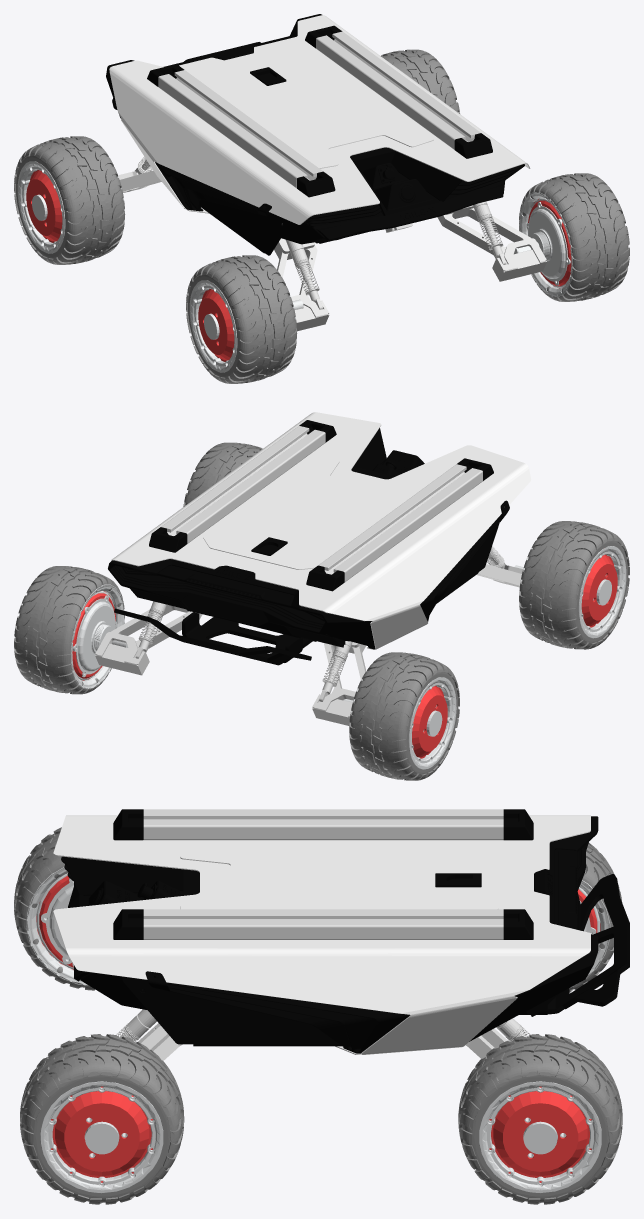
Rendered from robotmockup.fbx.
The picture shows the model from 3 angles, top to bottom: view 1: azimuth 30°, elevation 25°; view 2: azimuth 150°, elevation 25°; view 3: azimuth 270°, elevation 25°; orthographic projection. The views are drawn at different scales.
Parts seen in each view (by area): view 1: node53, front-left-wheel.001, back-left-wheel.001, front-right-wheel, back-right-wheel; view 2: node53, back-left-wheel.001, front-left-wheel.001, back-right-wheel, front-right-wheel; view 3: node53, front-right-wheel, back-right-wheel, front-left-wheel.001, back-left-wheel.001.
Part boxes in pixels (<box>): node53: <box>106,14,546,331</box>; front-left-wheel.001: <box>186,255,303,383</box>; back-left-wheel.001: <box>14,136,131,264</box>; front-right-wheel: <box>514,173,629,301</box>; back-right-wheel: <box>381,49,459,113</box>; node53: <box>95,412,531,725</box>; back-left-wheel.001: <box>343,652,459,780</box>; front-left-wheel.001: <box>514,521,629,649</box>; back-right-wheel: <box>14,566,128,694</box>; front-right-wheel: <box>183,442,262,506</box>; node53: <box>53,809,629,1060</box>; front-right-wheel: <box>20,1034,184,1204</box>; back-right-wheel: <box>458,1034,622,1204</box>; front-left-wheel.001: <box>14,827,94,990</box>; back-left-wheel.001: <box>569,842,622,992</box>.
Bounding box in the file's own units: 58.04 × 24.2 × 59.9.
